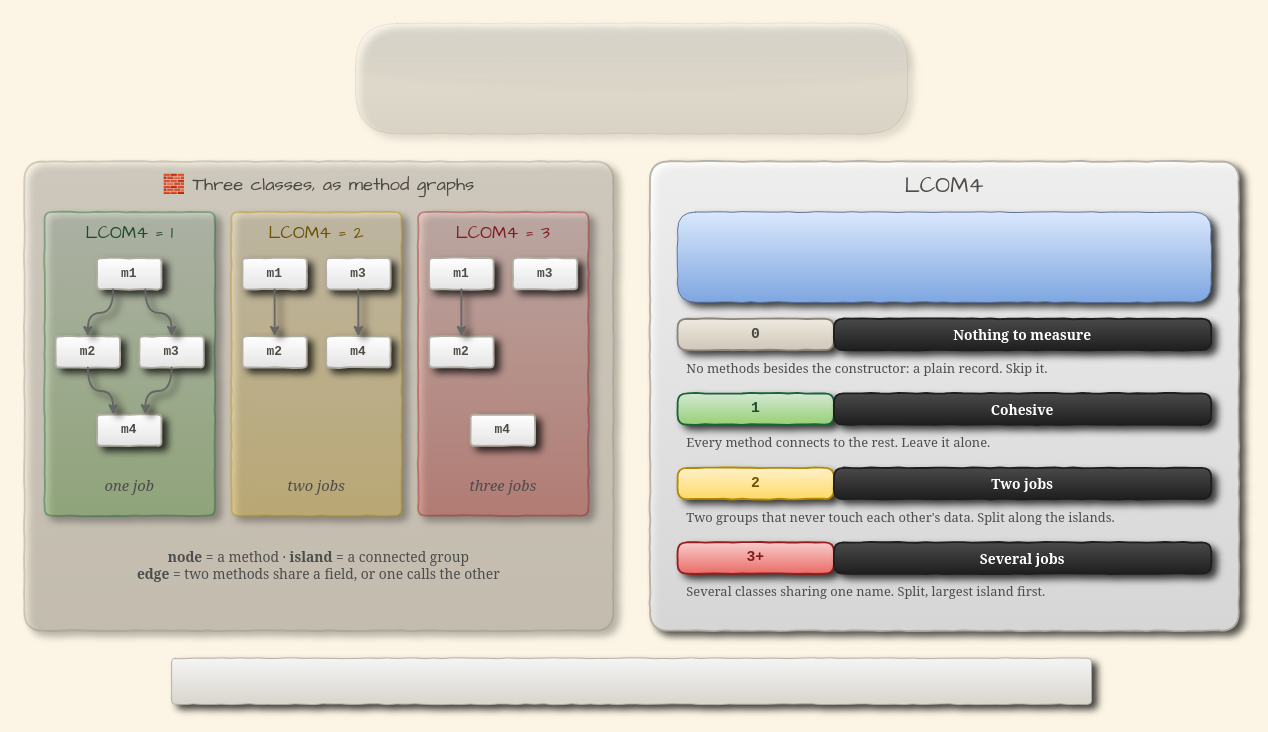
This 1268x732 diagram has some shape labels left out. The shapes that lost their labels are listed below. From the top down, each one's centre as x and y in pixels, then its label:
point 633,80: Lack of Cohesion of Methods How many jobs is it doing? by Steven Miers
point 946,259: node = a method edge = a shared field, or a call LCOM4 = number of islands
point 633,683: LCOM4 : draw the method graph and count the pieces it falls into.
